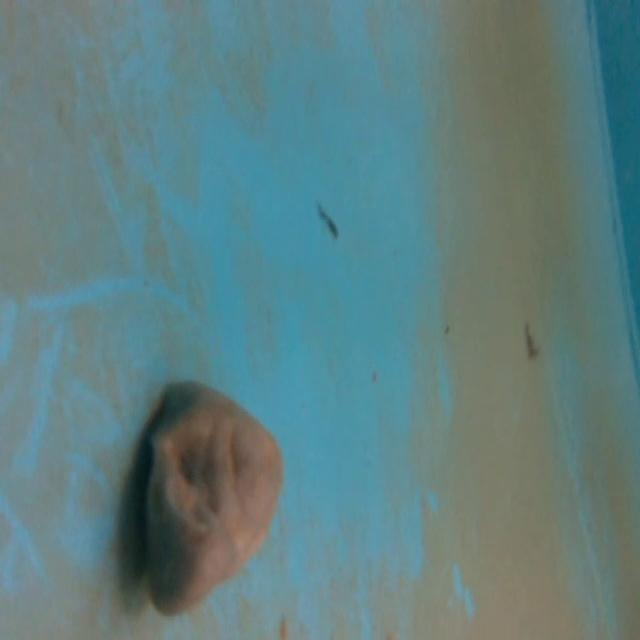rock: (128, 374, 287, 620)
